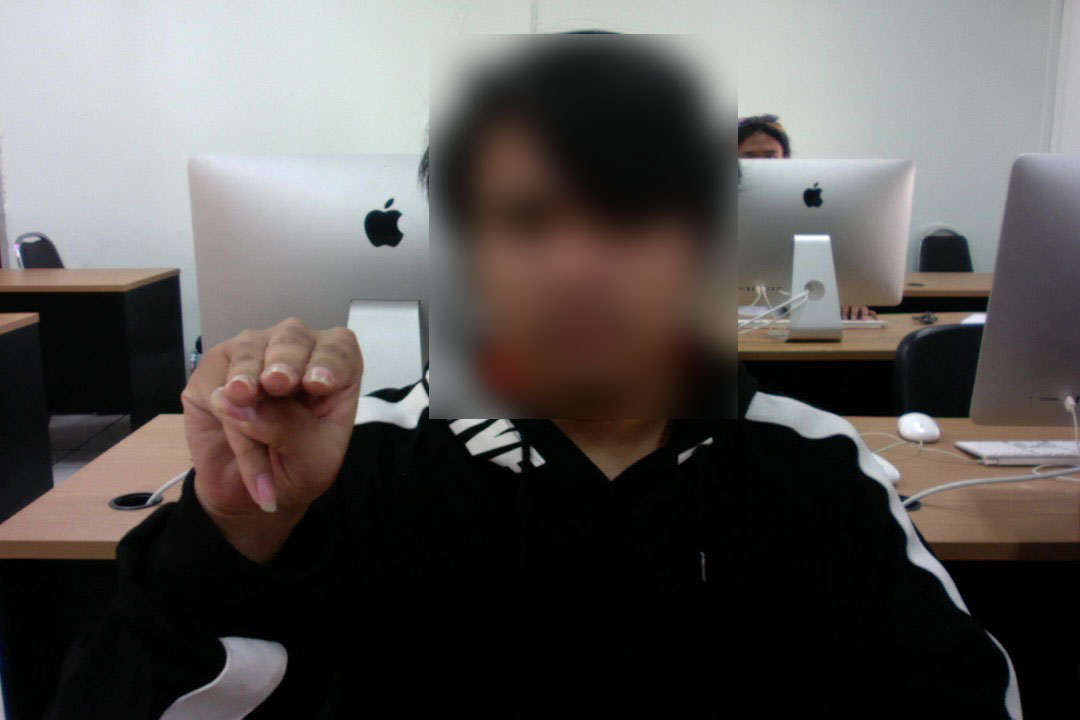mor: (177, 306, 369, 528)
